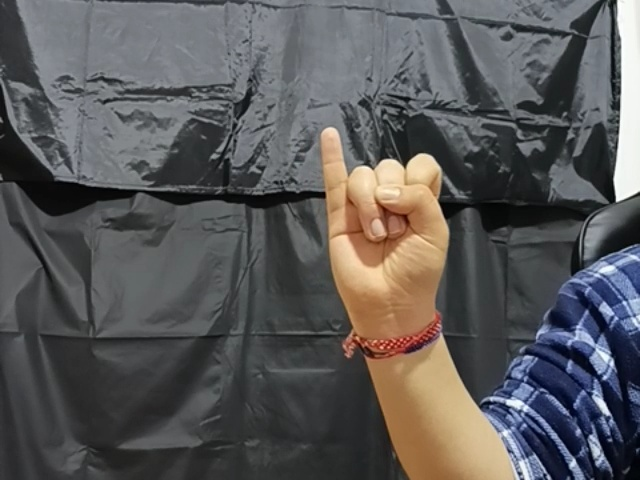I: (308, 122, 456, 336)
